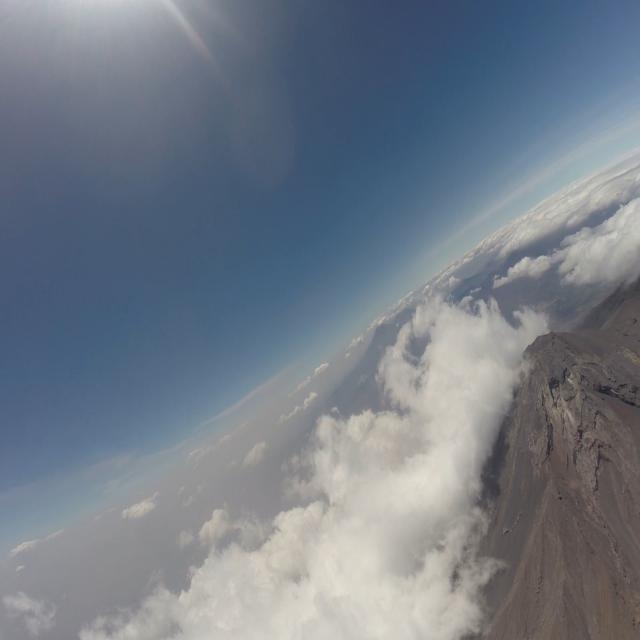Summit: (516, 328, 638, 492)
